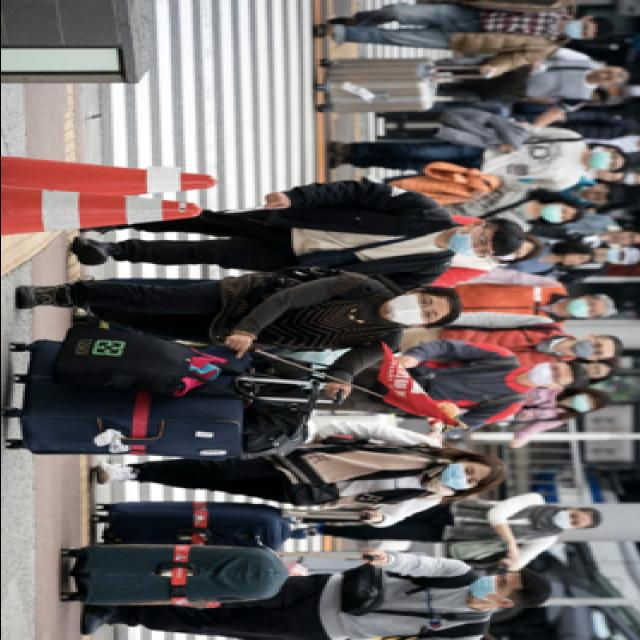mask: (386, 292, 441, 326), (448, 230, 494, 260), (470, 572, 513, 602), (528, 363, 568, 389), (441, 464, 479, 491), (570, 338, 606, 362), (566, 298, 600, 320), (491, 242, 525, 264), (552, 511, 582, 532), (570, 394, 600, 414), (542, 204, 568, 226), (590, 152, 620, 171), (563, 21, 592, 40), (604, 250, 626, 266), (592, 146, 614, 154)
no_mask: (578, 187, 606, 203), (592, 68, 616, 86), (614, 230, 638, 247), (564, 254, 590, 268), (582, 363, 602, 379), (596, 170, 618, 182)
